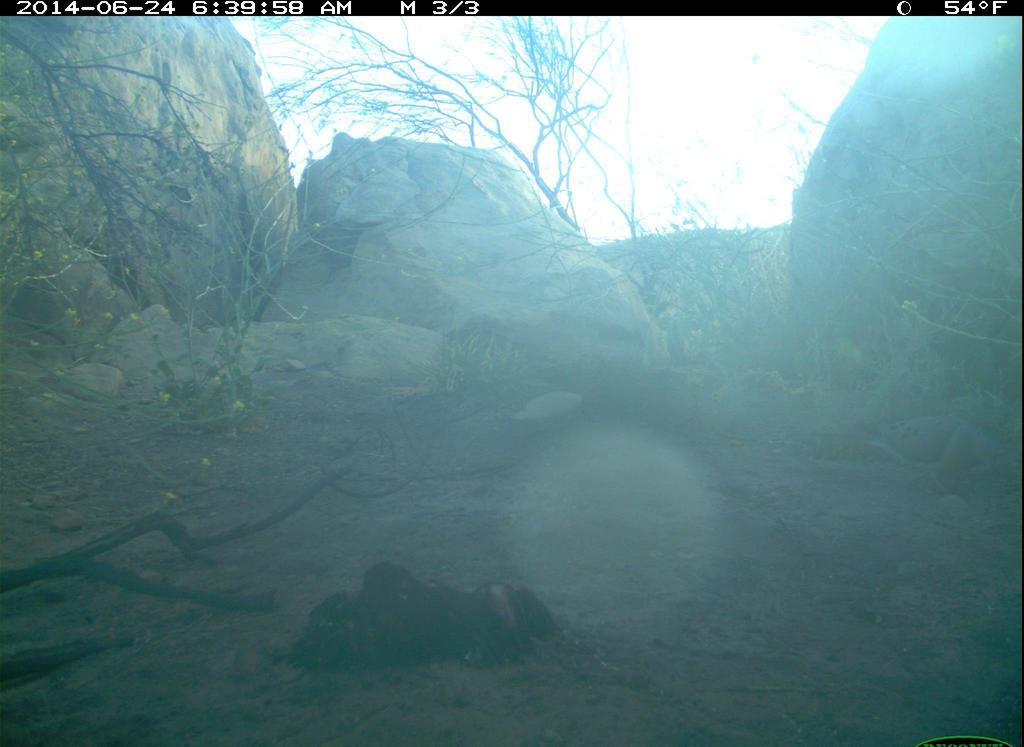bird: (785, 408, 1013, 506)
